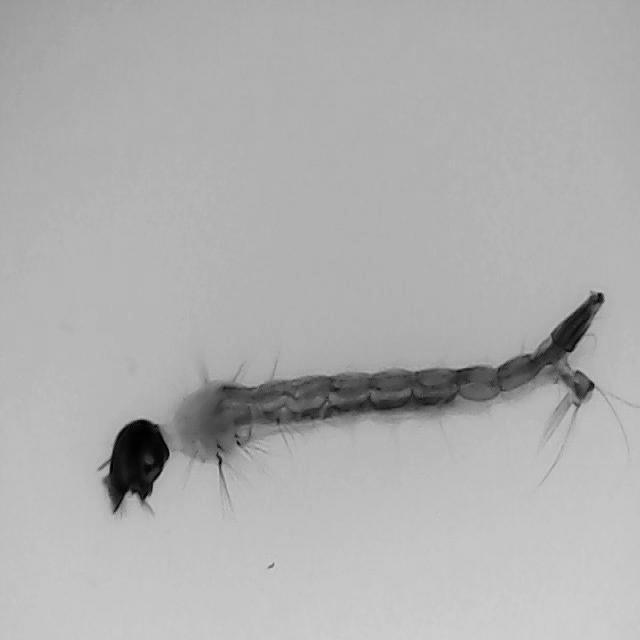larvas: (110, 293, 607, 505)
